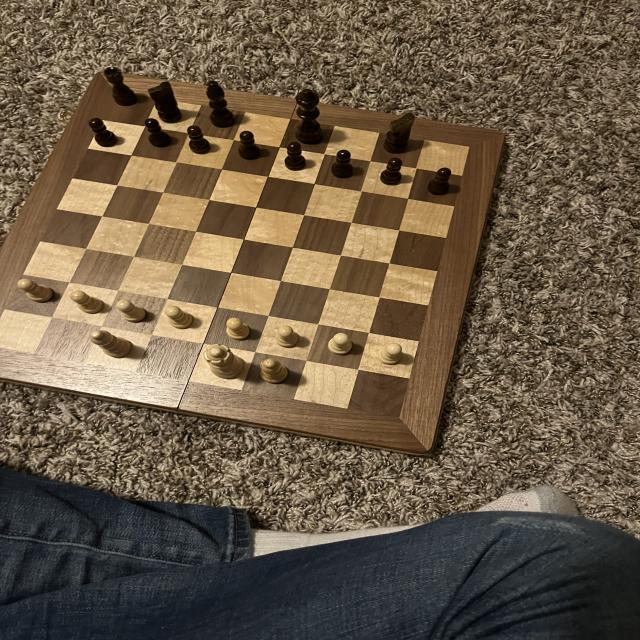bishop: (201, 78, 238, 131)
black-bishop: (290, 84, 328, 148)
black-king: (147, 80, 187, 126), (382, 109, 419, 155)
black-knight: (86, 114, 122, 150), (422, 166, 457, 199), (143, 116, 175, 151), (183, 123, 215, 156), (234, 129, 266, 162), (376, 157, 409, 188), (282, 139, 312, 173), (330, 149, 359, 181)
black-rook: (87, 326, 134, 359), (256, 356, 292, 386)
white-knight: (111, 295, 154, 325), (66, 288, 106, 318), (15, 275, 55, 305), (162, 304, 200, 332), (375, 339, 405, 368), (272, 323, 304, 350), (324, 332, 357, 356), (224, 315, 251, 342)
white-pawn: (101, 63, 141, 109), (201, 341, 247, 380)
